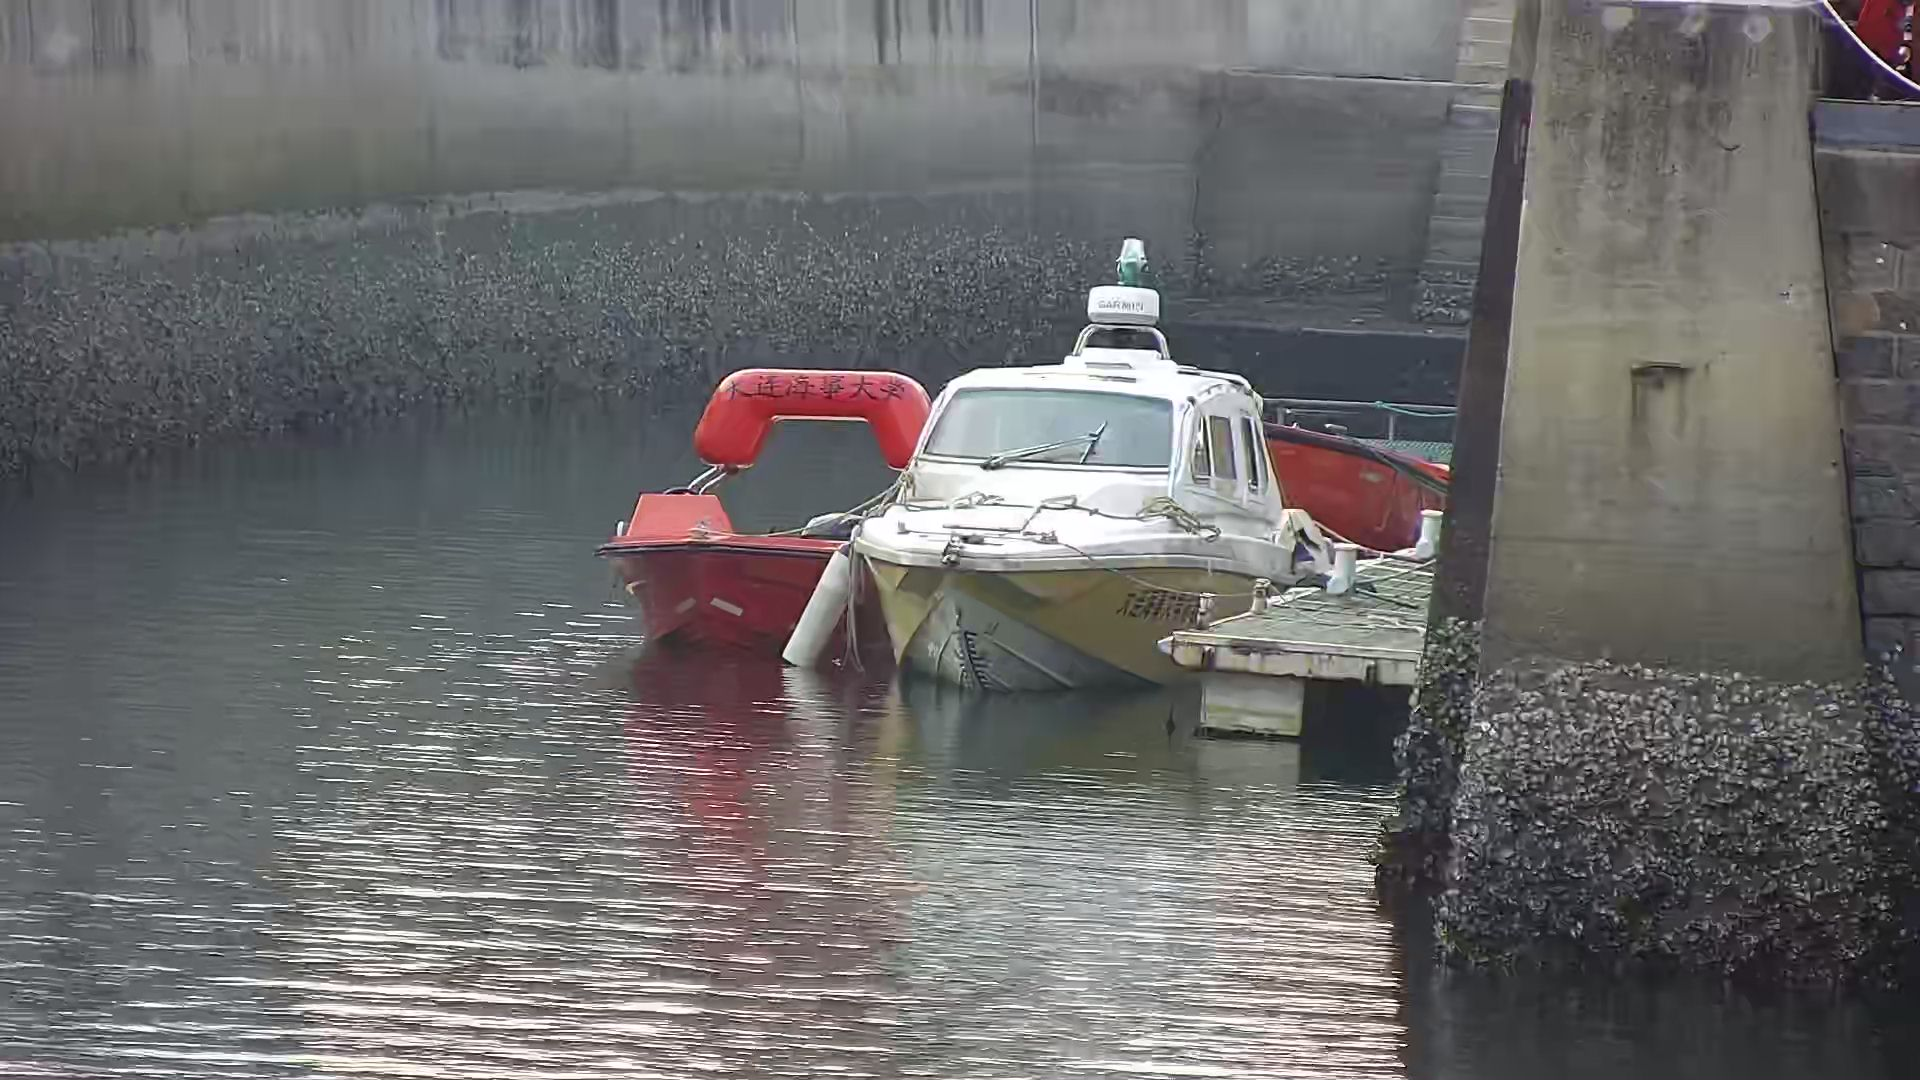boat: (607, 357, 928, 649)
ship: (837, 270, 1292, 699)
